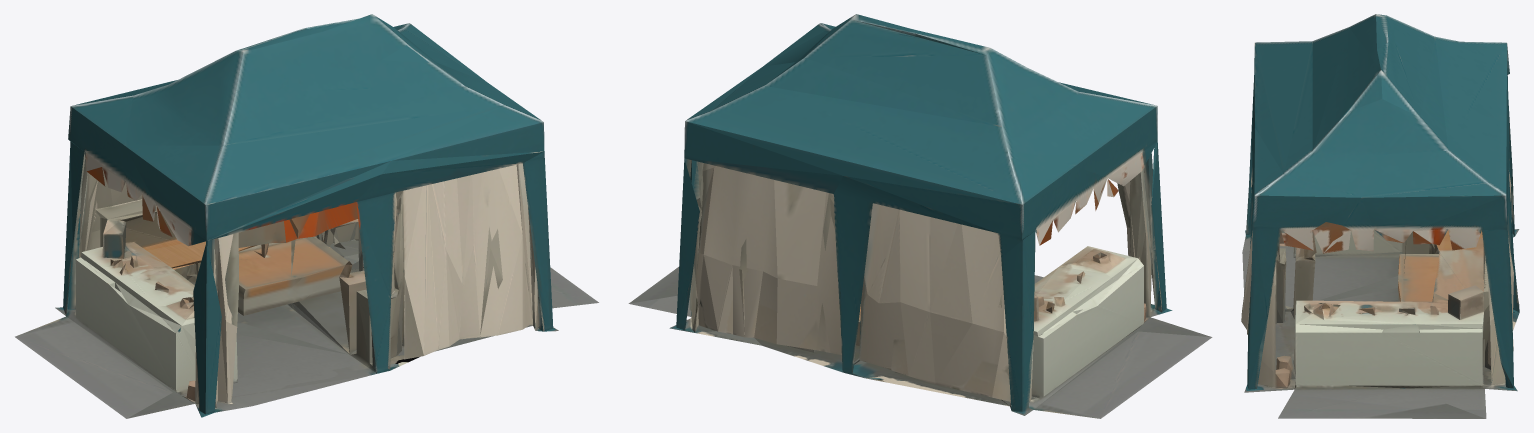
Rendered from market_tent_optimized.glb.
The picture shows the model from 3 angles, left to right: view 1: azimuth 30°, elevation 25°; view 2: azimuth 150°, elevation 25°; view 3: azimuth 270°, elevation 25°; orthographic projection. The views are drawn at different scales.
Visible parts, largest first — view 1: output_unwrapped; view 2: output_unwrapped; view 3: output_unwrapped.
Boxes of the visible parts, x1,y1,x2,y2 form: output_unwrapped: [15, 14, 598, 418]; output_unwrapped: [628, 14, 1212, 418]; output_unwrapped: [1241, 14, 1519, 418].
Size of the model in its own units: 1.9 by 1.12 by 1.04.
1 material, 1 textured.
